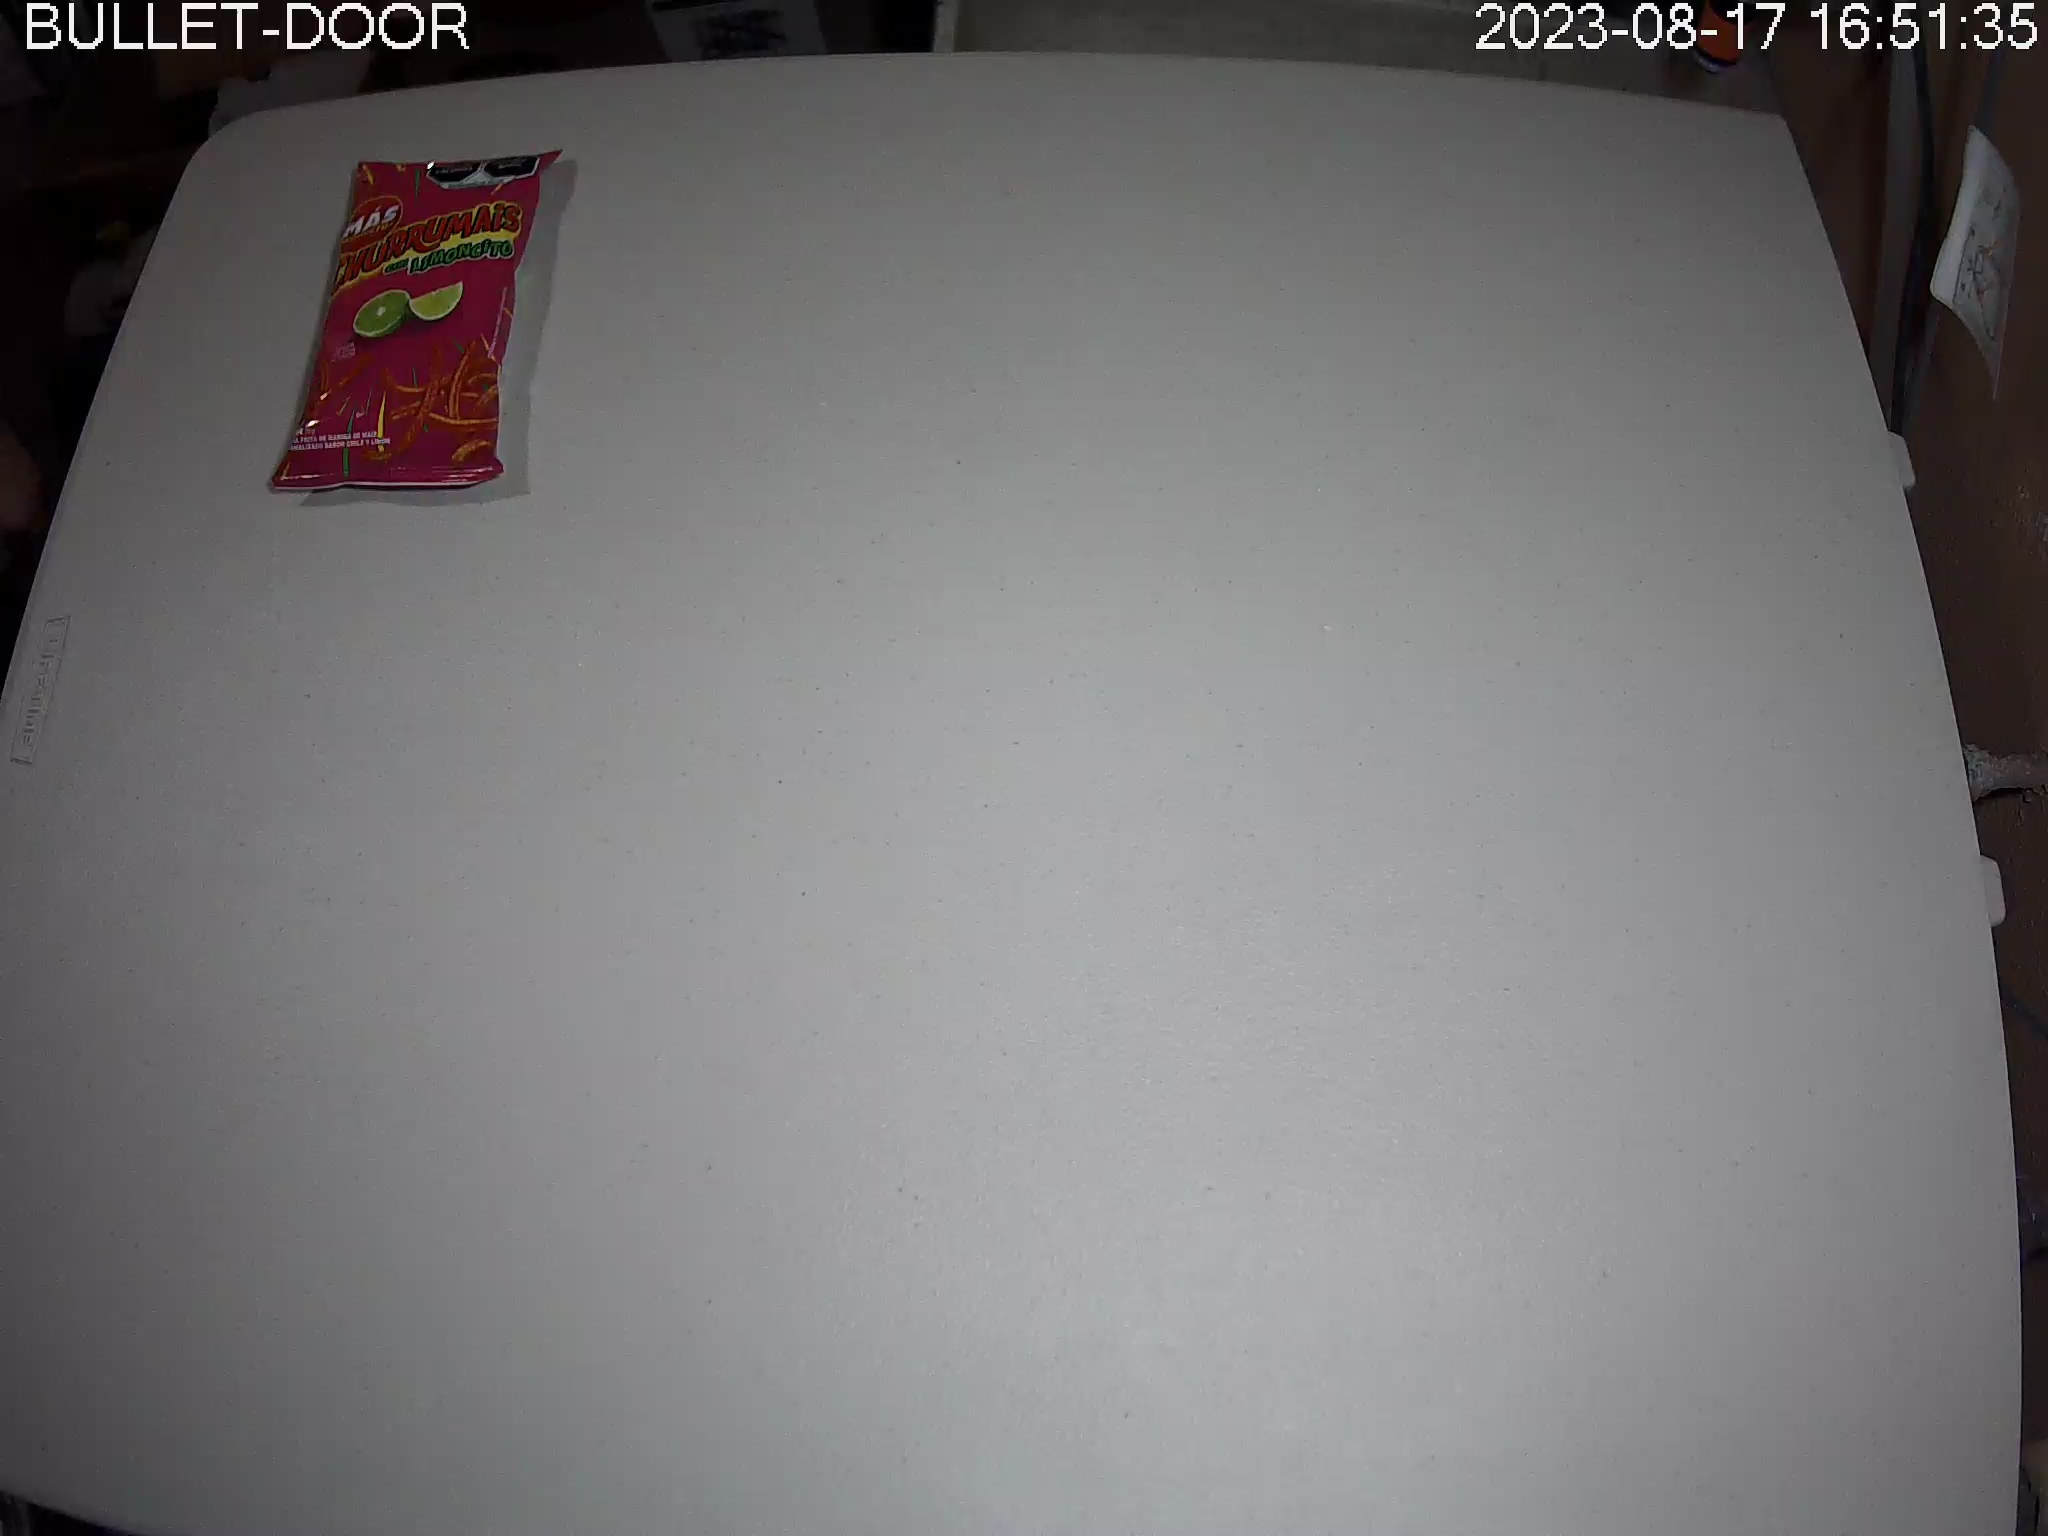Churrumais_70_F: (268, 148, 568, 494)
